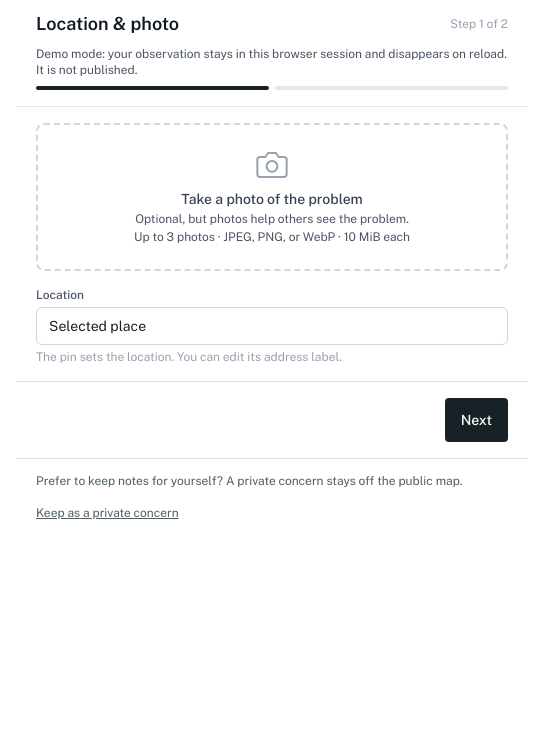
Test: community issue draft and submission › allows the reporting tools in a pilot (39.74, -104.99)
The width and height of the screenshot is (545, 732).
What coordinates should you click on to do the following:
click the button "Next"
I would click on:
 (476, 420)
Its box is [445,398,508,442].
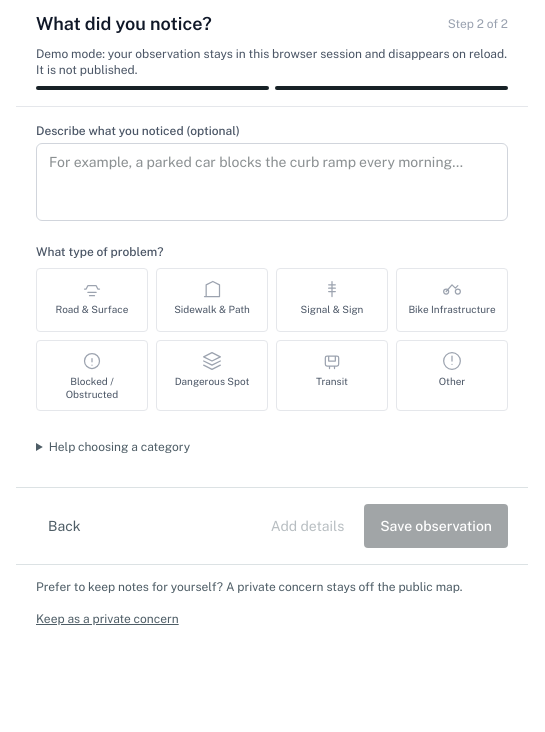
What coordinates should you click on to do the following:
click the button "Road & Surface"
I would click on:
 (92, 300)
Its box is [36,268,148,332].
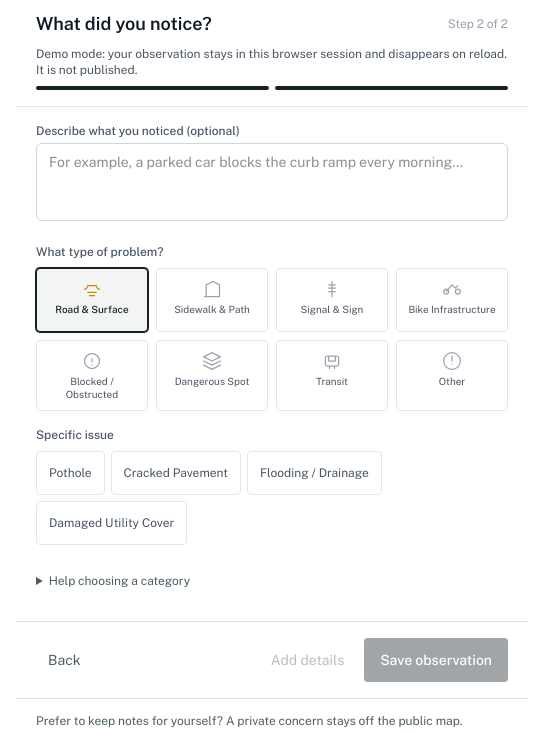
What coordinates should you click on to do the following:
click the button "Pothole"
I would click on:
 (70, 473)
Its box is [36,451,105,495].
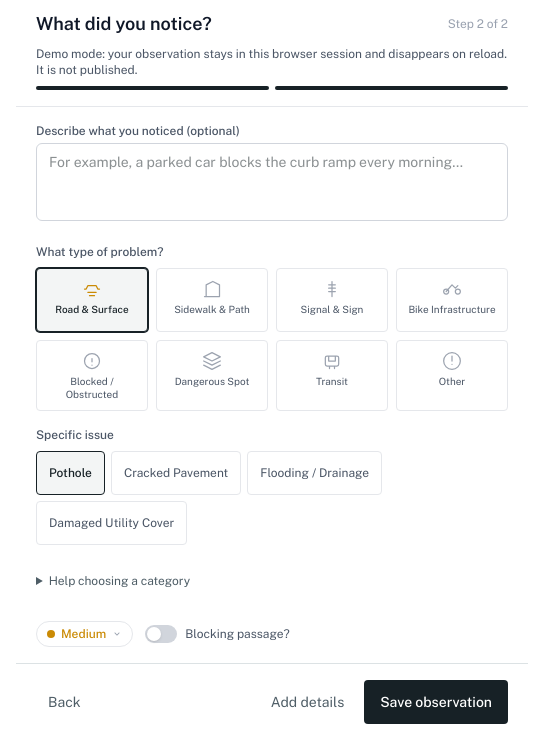
Expected: the button "Save observation" is enabled, [364,680,508,724]
